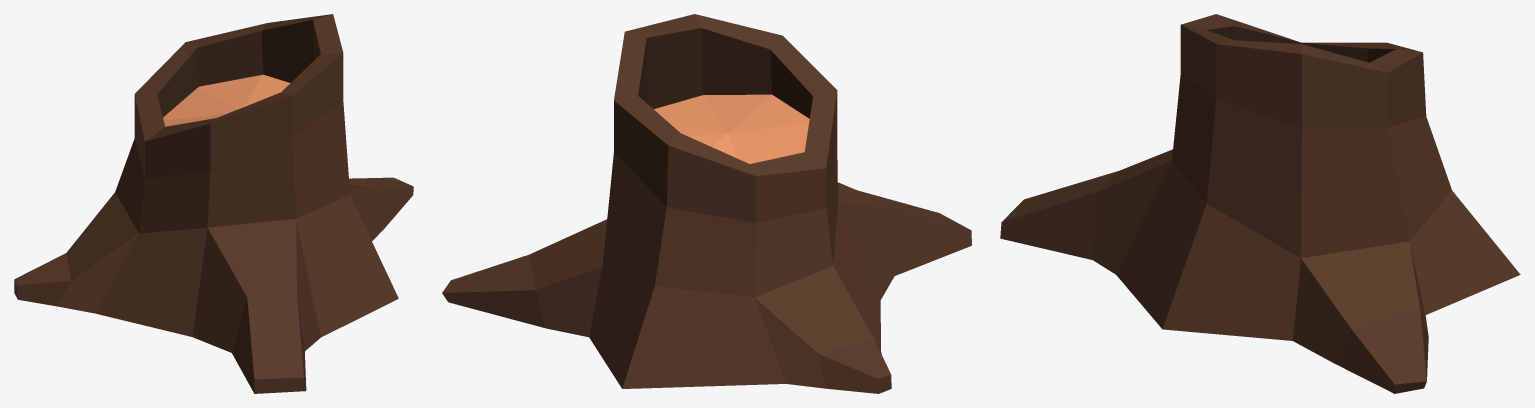
File: stump01__mesh_LOD.fbx
3 views of the same model, side by side, from view 1: azimuth 30°, elevation 25°; view 2: azimuth 150°, elevation 25°; view 3: azimuth 270°, elevation 25° (orthographic). The views are drawn at different scales.
Visible parts, largest first — view 1: stump01__mesh_LOD0; view 2: stump01__mesh_LOD0; view 3: stump01__mesh_LOD0.
Boxes of the visible parts, box(x1,y1,x2,y2) form: stump01__mesh_LOD0: box(14, 14, 413, 393); stump01__mesh_LOD0: box(442, 14, 971, 393); stump01__mesh_LOD0: box(1000, 14, 1520, 393).
Size of what is drawn, in the model's own units: 429 by 245 by 422.
Materials: 1 (1 with a texture image).
